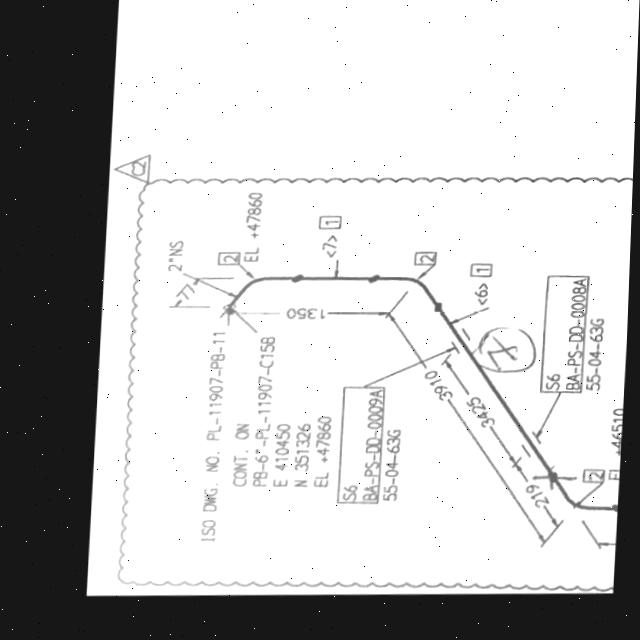Item number: (539, 275, 591, 399), (336, 387, 388, 509), (581, 471, 610, 487), (412, 252, 440, 268), (468, 264, 495, 279), (316, 215, 343, 230), (215, 252, 242, 267)
Measrement: (386, 301, 558, 551), (440, 355, 524, 469), (508, 460, 567, 535), (225, 307, 395, 323), (164, 276, 213, 310), (163, 239, 190, 275)
Pipeline: (225, 275, 606, 519)
Symbol: (215, 272, 308, 318), (547, 473, 623, 524), (370, 275, 451, 321)
Weld number: (474, 327, 541, 376)
other: (232, 335, 343, 490), (193, 331, 231, 542), (584, 318, 610, 396), (240, 191, 267, 263), (382, 427, 406, 505), (607, 405, 626, 482), (111, 154, 154, 183)
